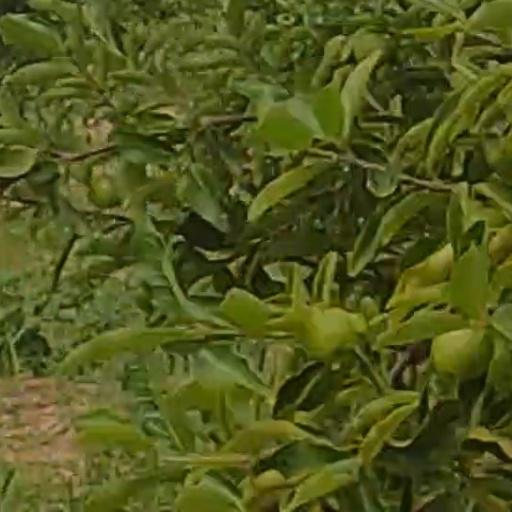acerola_verde: (434, 330, 486, 378)
